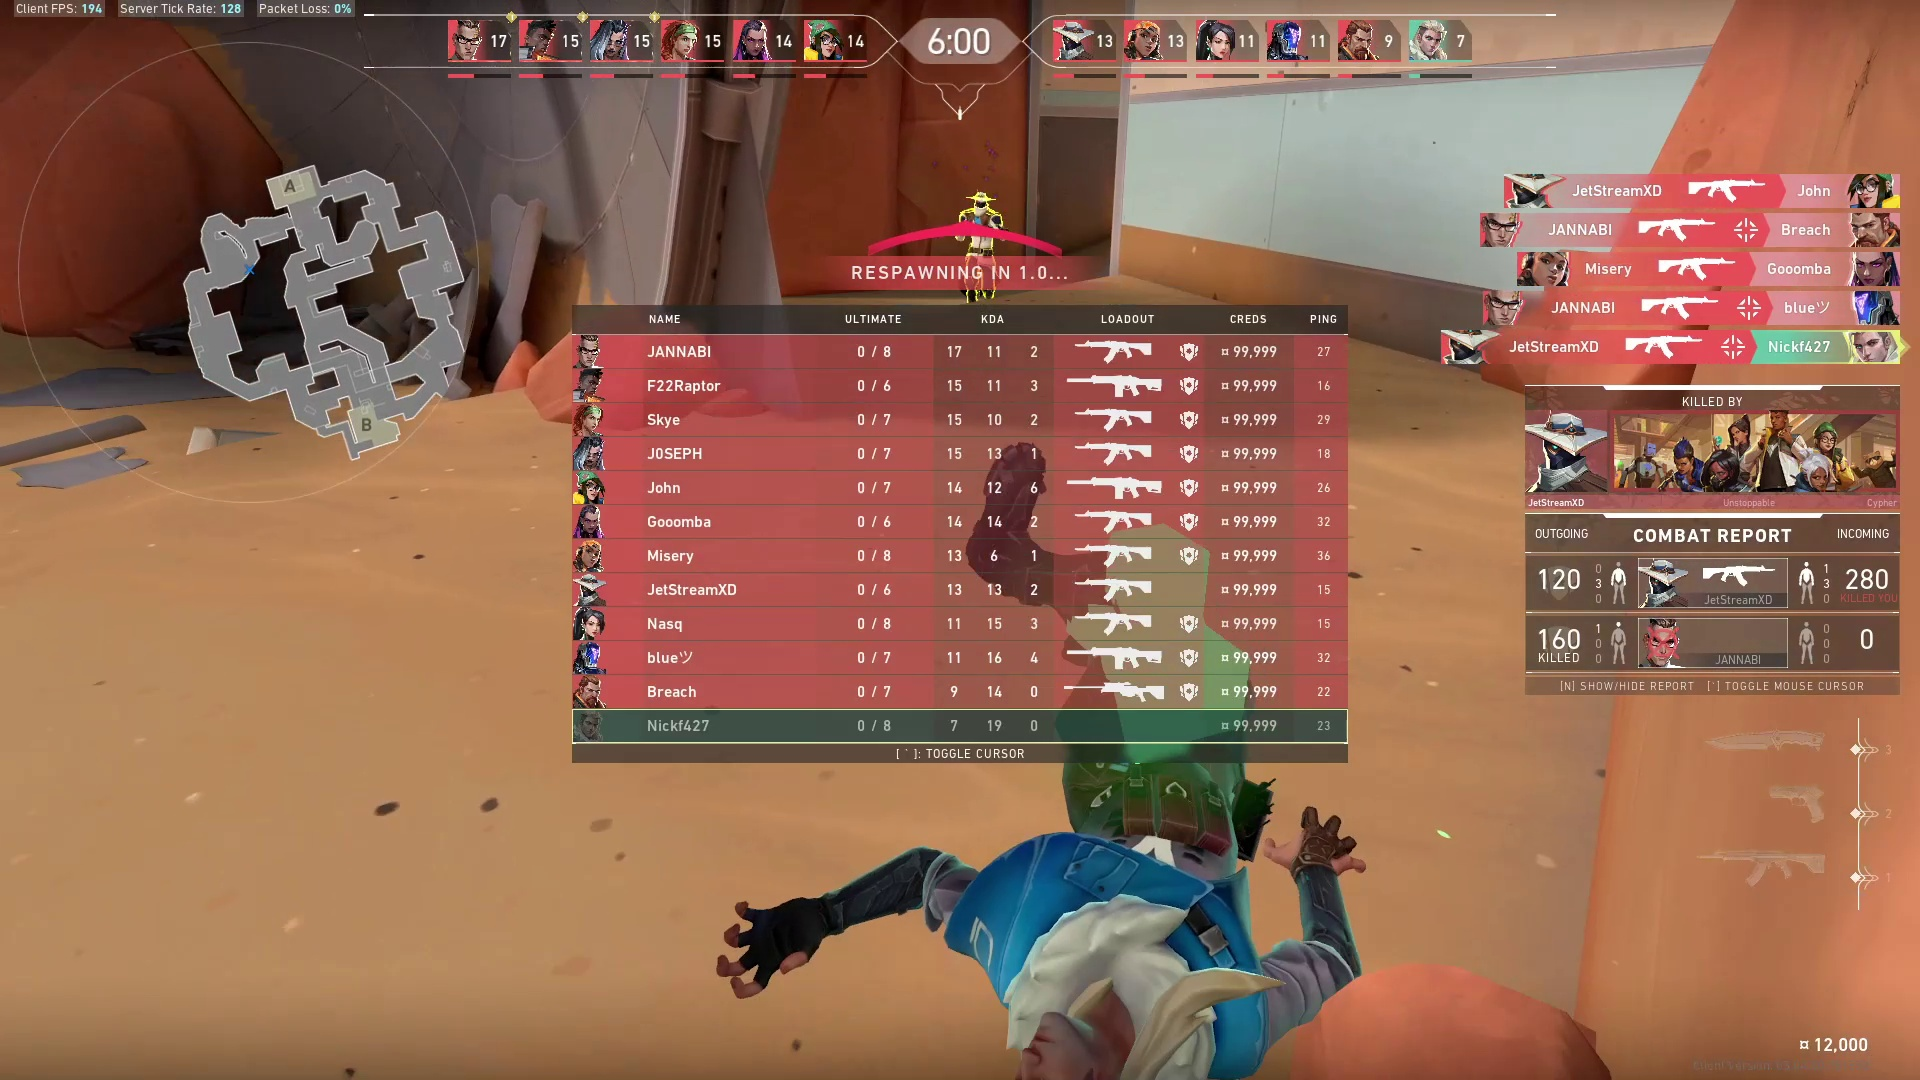enemy_body: (949, 211, 1009, 305)
enemy_head: (957, 185, 1004, 211)
